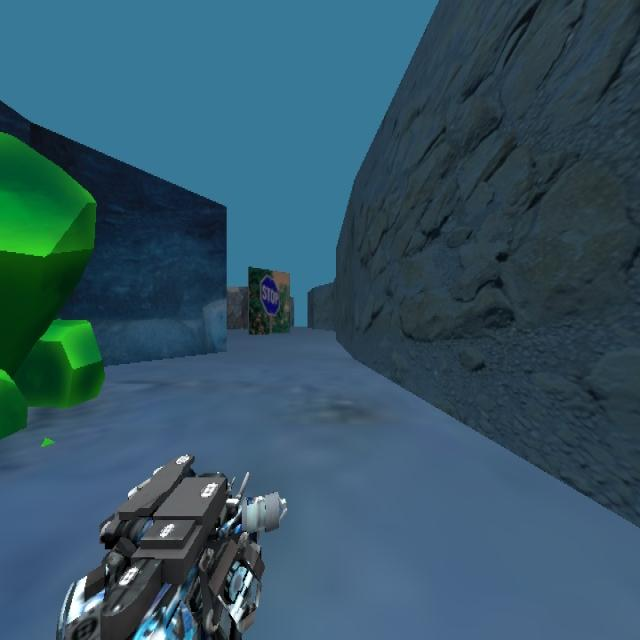Diamon: (0, 128, 105, 443)
Stop_Sign: (259, 273, 280, 316)
